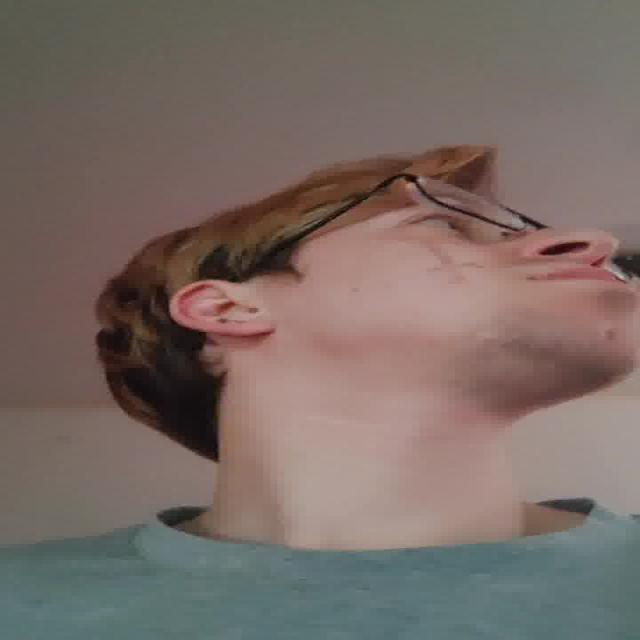earlobe: (225, 312, 274, 338)
eye: (397, 209, 471, 234)
nose: (540, 245, 614, 274)
wholeear: (171, 280, 274, 338)
